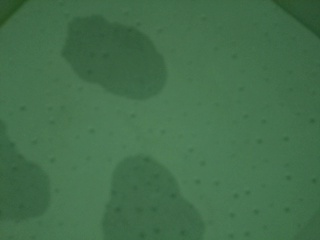Water_detected: (120, 169, 180, 240), (80, 26, 157, 78), (15, 178, 34, 200)
